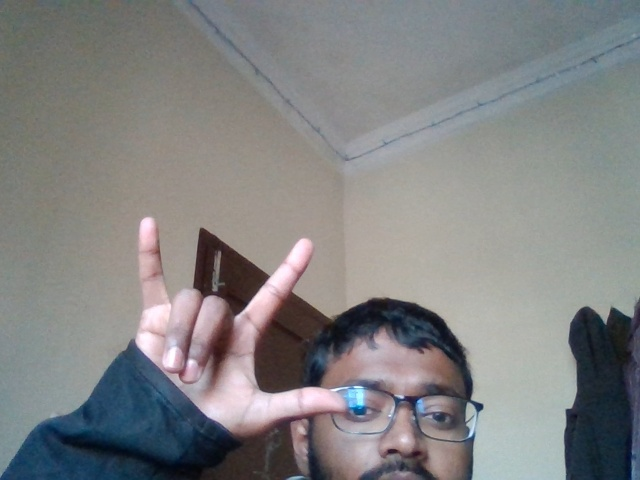iloveyou: (101, 180, 359, 445)
